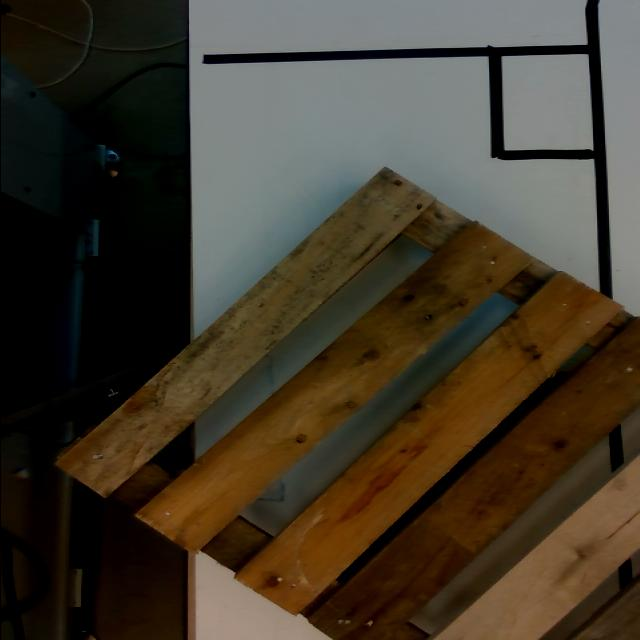pallet: (58, 170, 640, 640)
